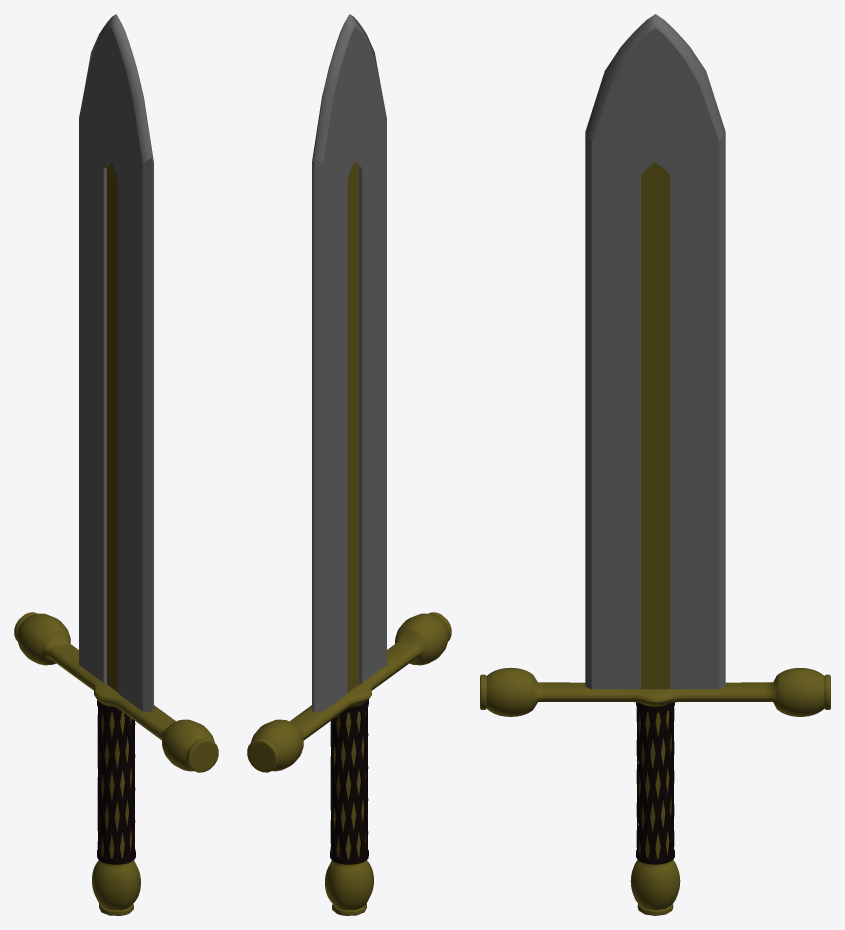
File: Sword.obj
The picture shows the model from 3 angles, left to right: view 1: azimuth 30°, elevation 25°; view 2: azimuth 150°, elevation 25°; view 3: azimuth 270°, elevation 25°; orthographic projection.
Parts seen in each view (by area): view 1: pCylinder13, pCylinder3, pCylinder1; view 2: pCylinder13, pCylinder3, pCylinder1; view 3: pCylinder13, pCylinder3, pCylinder1.
Boxes of the visible parts, x1,y1,x2,y2 form: pCylinder13: [14, 14, 218, 915]; pCylinder3: [97, 707, 135, 859]; pCylinder1: [99, 709, 133, 858]; pCylinder13: [247, 14, 451, 915]; pCylinder3: [330, 707, 368, 859]; pCylinder1: [332, 709, 366, 858]; pCylinder13: [480, 14, 830, 915]; pCylinder3: [636, 707, 674, 859]; pCylinder1: [638, 708, 672, 858].
Size of the model in its own units: 5.35 by 107 by 37.97.
